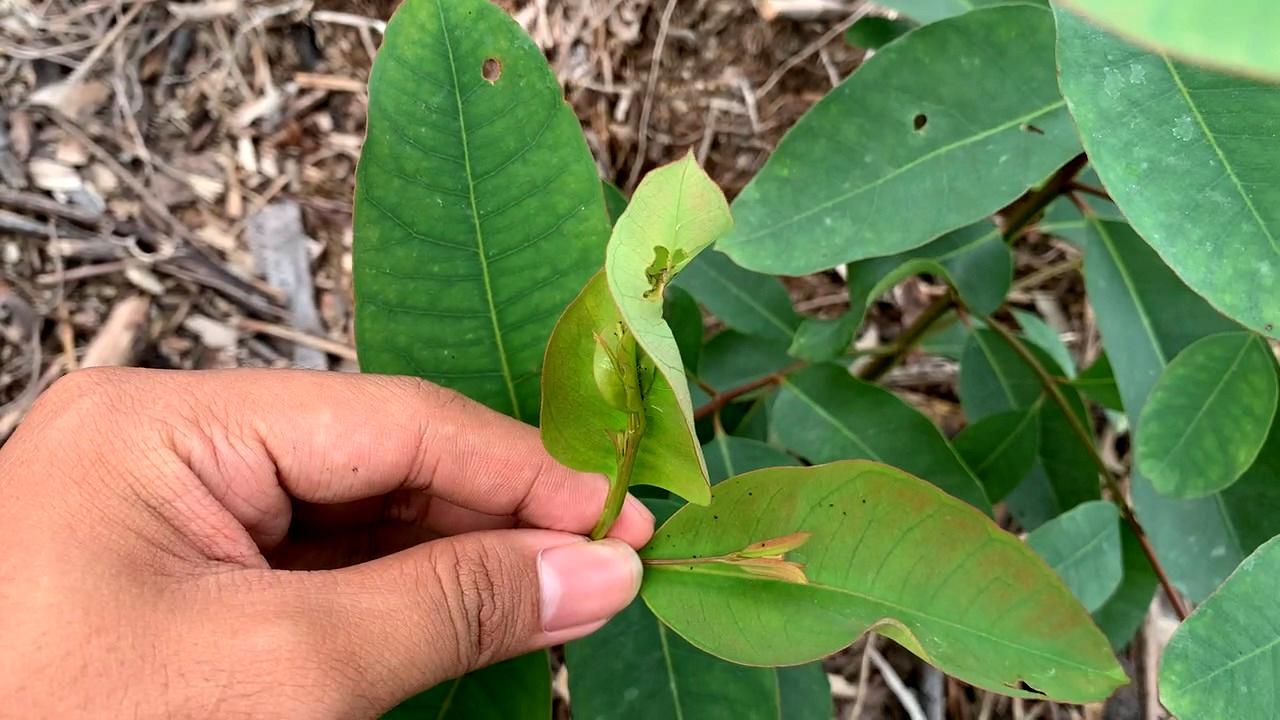Leaf Roller - Leaf: (531, 142, 750, 510)
